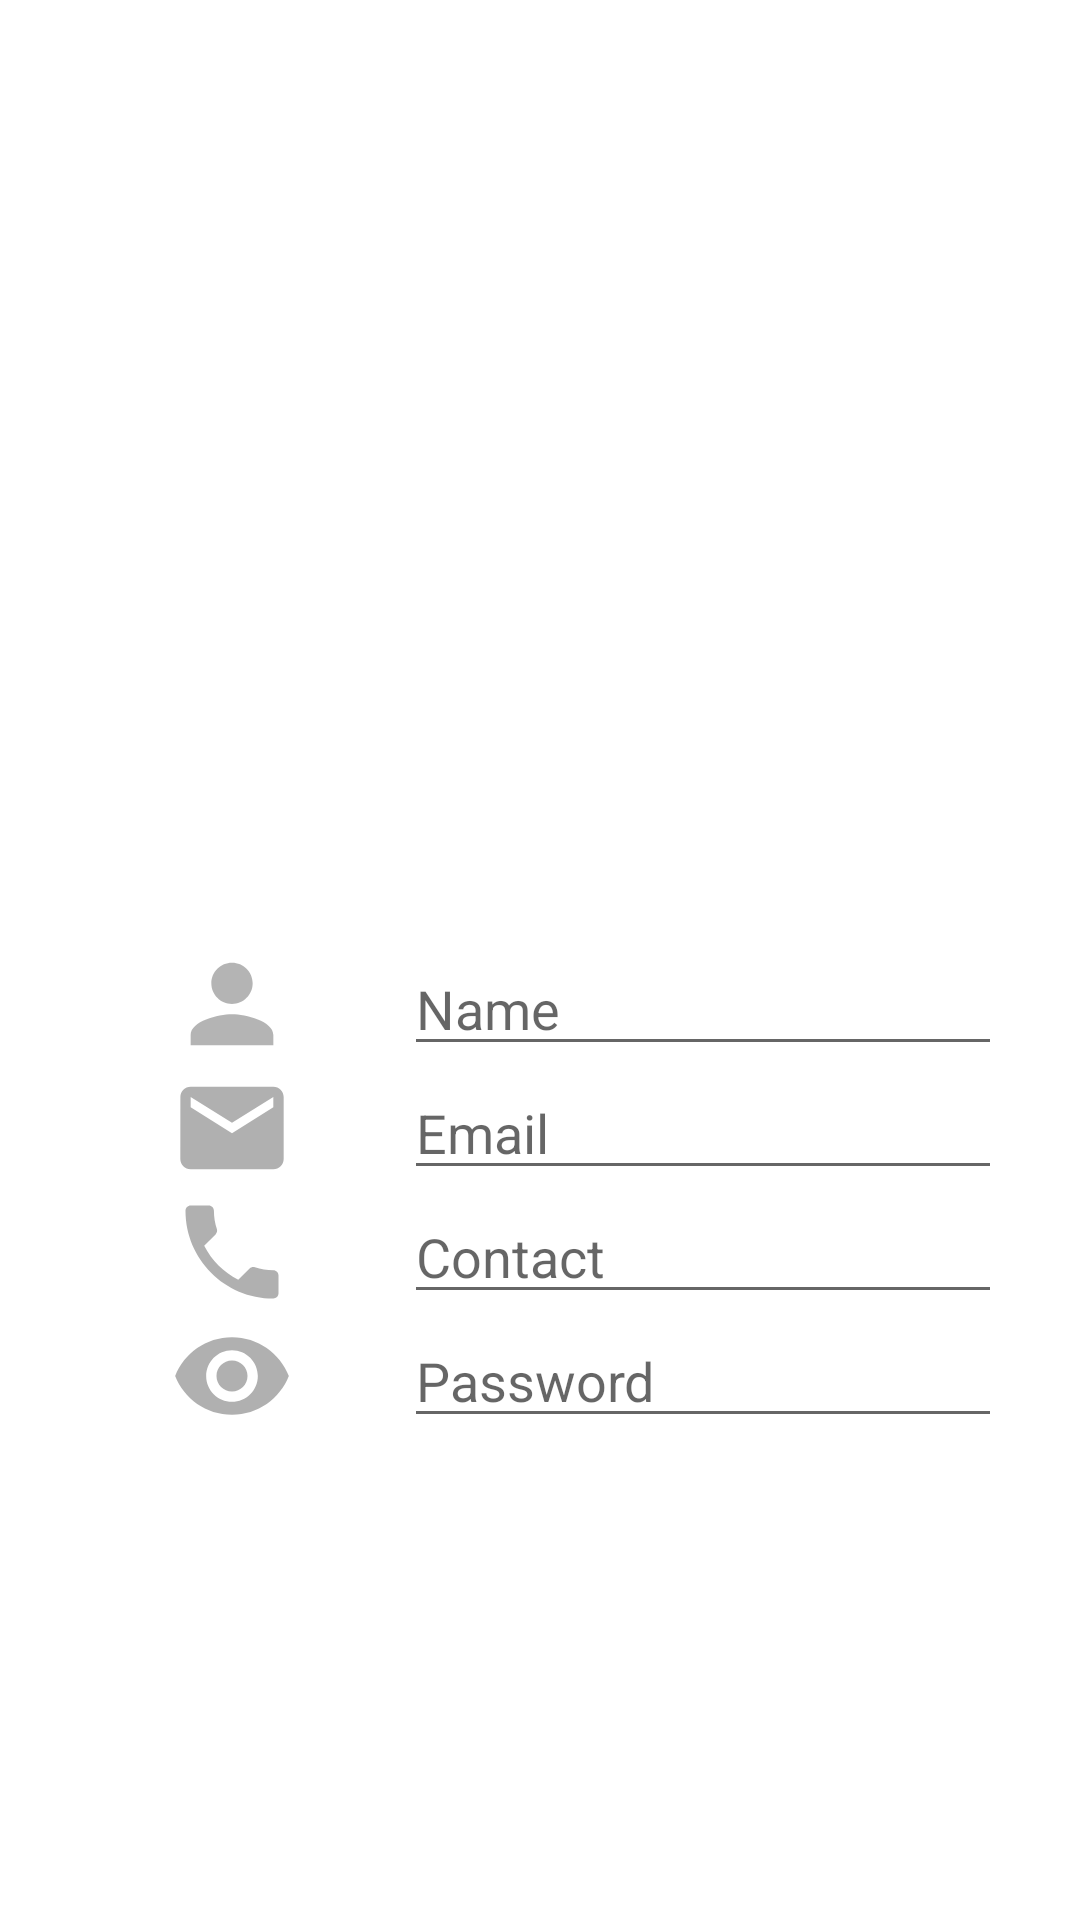

Icon click points for this 1080px x 1920px phone screenshot, format (x=x, y=y):
local phone: (x=232, y=1252)
person: (x=232, y=1004)
